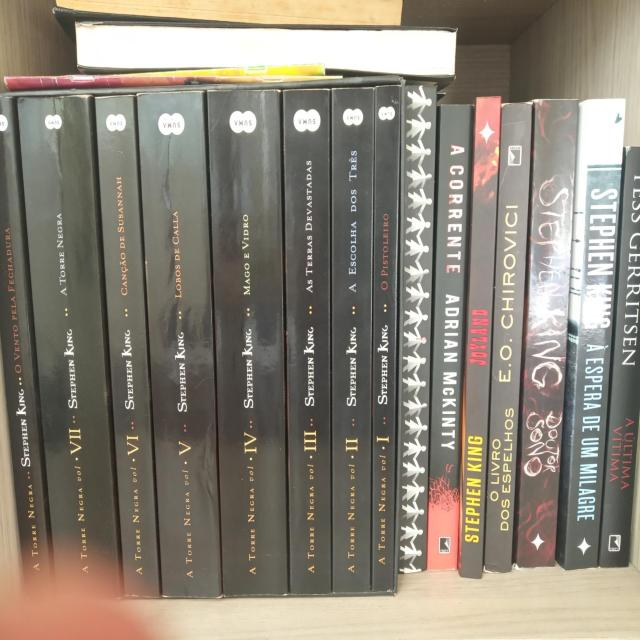book: (229, 90, 277, 589), (294, 96, 330, 588), (167, 92, 200, 588), (335, 89, 367, 587), (538, 98, 570, 565), (401, 89, 427, 570), (443, 110, 463, 572), (376, 105, 394, 586)
